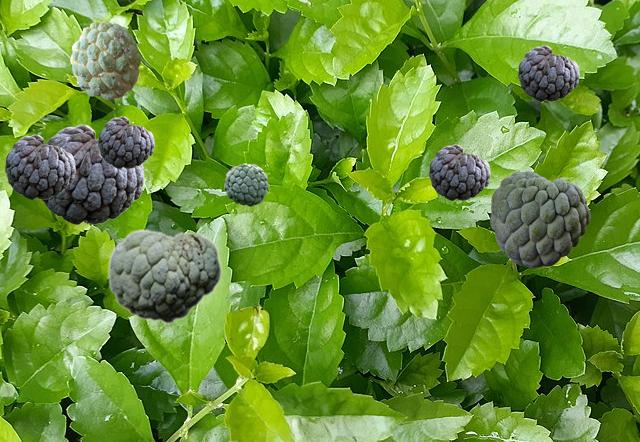atis: (107, 228, 221, 323), (40, 124, 143, 223), (490, 171, 589, 266), (70, 21, 139, 98), (5, 134, 74, 198), (518, 45, 578, 100), (429, 144, 489, 199), (98, 116, 153, 167), (224, 163, 267, 205)
